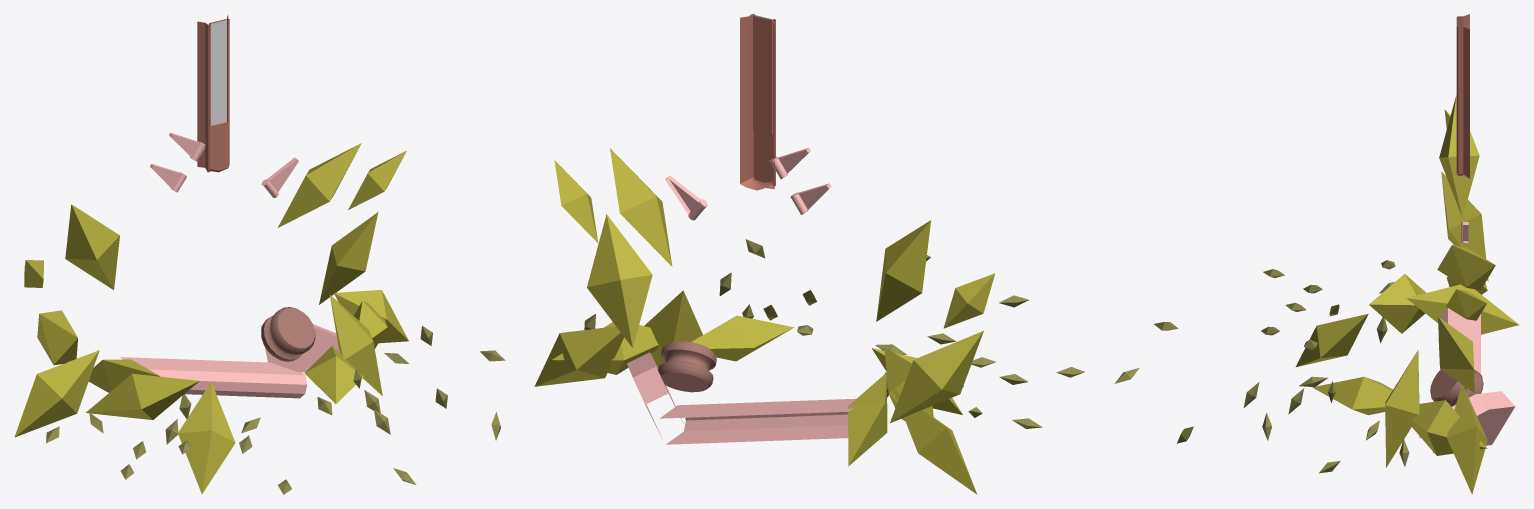
Rendered from Fbx_Boss_Destroyed.fbx.
3 views of the same model, side by side, from view 1: azimuth 30°, elevation 25°; view 2: azimuth 150°, elevation 25°; view 3: azimuth 270°, elevation 25° (orthographic). The views are drawn at different scales.
Parts seen in each view (by area): view 1: pCube97 (×2), pCube102 (×2), Pole_Low, pCube96, pCube100, pCube101 (×2), pCube98, pCube92, Laser_Go_Spin, Pole_High_Base, pCube148, pCube95 (+6 smaller); view 2: Pole_Low, pCube102 (×2), pCube101 (×2), pCube98, Pole_High_Base, pCube100, pCube92, pCube97 (×2), Pole_High_Mid, pCube148, Laser_Go_Spin, pCube95 (+3 smaller); view 3: pCube97 (×2), pCube101 (×2), pCube102, pCube96, pCube98, pCube95, pCube148, pCube100, pCube92, Low_Support_1, Pole_High_Base, Pole_High_Mid (+3 smaller).
Part boxes in pixels (x1,y1,x2,y2): pCube97 (×2): (86,294,382,419); pCube102 (×2): (14,290,408,437); Pole_Low: (120,357,307,398); pCube96: (178,382,235,493); pCube100: (65,204,119,289); pCube101 (×2): (37,300,387,365); pCube98: (319,212,378,304); pCube92: (278,143,361,227); Laser_Go_Spin: (261,307,315,361); Pole_High_Base: (197,87,229,172); pCube148: (304,346,363,403); pCube95: (88,359,160,392); Pole_Low: (659,398,855,444); pCube102 (×2): (534,326,977,494); pCube101 (×2): (552,322,983,423); pCube98: (587,214,652,347); Pole_High_Base: (740,90,775,190); pCube100: (876,220,931,321); pCube92: (610,148,672,266); pCube97 (×2): (644,290,933,420); Pole_High_Mid: (740,14,775,101); pCube148: (691,315,793,361); Laser_Go_Spin: (658,341,716,392); pCube95: (848,372,887,466); pCube97 (×2): (1369,274,1425,467); pCube101 (×2): (1411,171,1488,455); pCube102: (1446,384,1487,494); pCube96: (1296,314,1368,366); pCube98: (1438,317,1474,393); pCube95: (1406,284,1518,334); pCube148: (1312,376,1392,415); pCube100: (1439,95,1479,217); pCube92: (1437,245,1495,289); Low_Support_1: (1419,391,1515,452); Pole_High_Base: (1456,95,1469,178); Pole_High_Mid: (1456,14,1469,97).
Size of the model in its own units: 1980 by 1728 by 1607.
